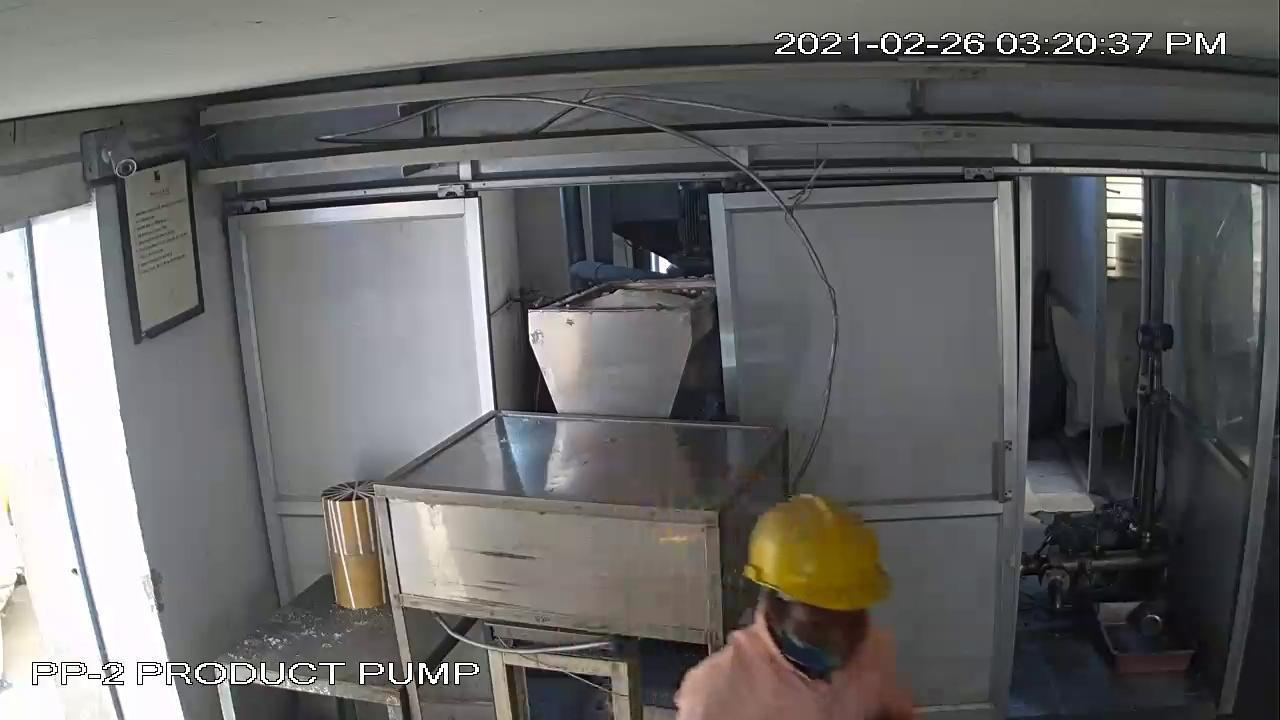helmet: (723, 481, 926, 661)
